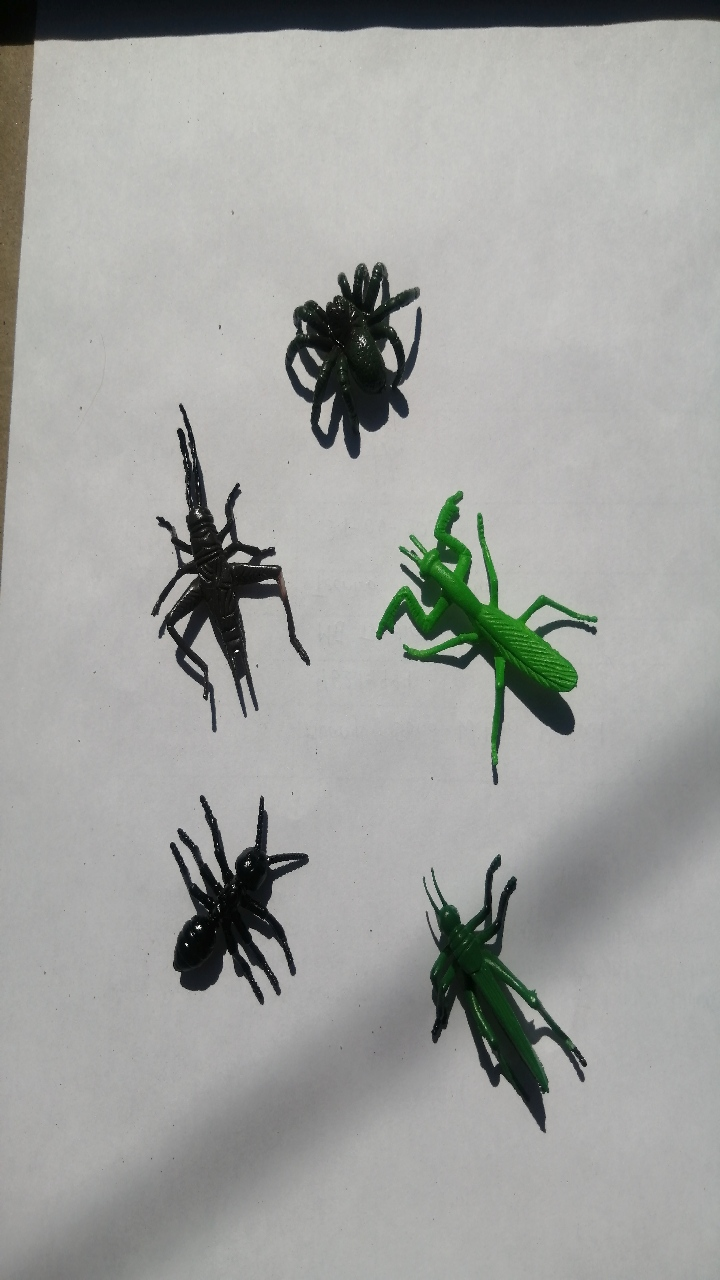intruso: (358, 454, 606, 789), (103, 359, 306, 732), (400, 815, 608, 1137), (135, 762, 328, 1049), (257, 226, 441, 452)
